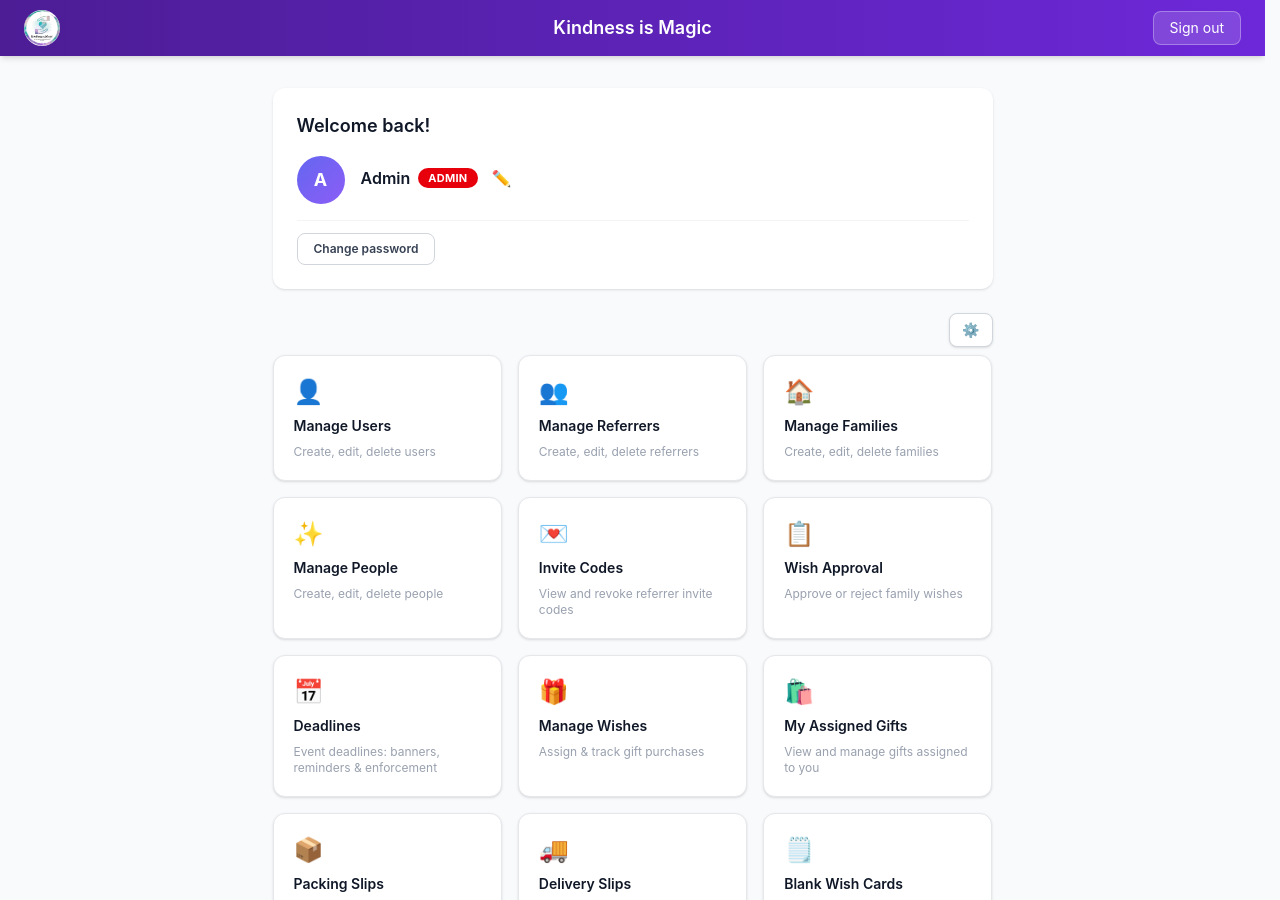
Test: Dashboard — profile card › keeps the password form collapsed until 'Change password' is clicked
The image size is (1280, 900).
Expected: the field labelled "Current password" is not shown
Click the button "Change password" at (366, 249), box [296, 233, 435, 265]
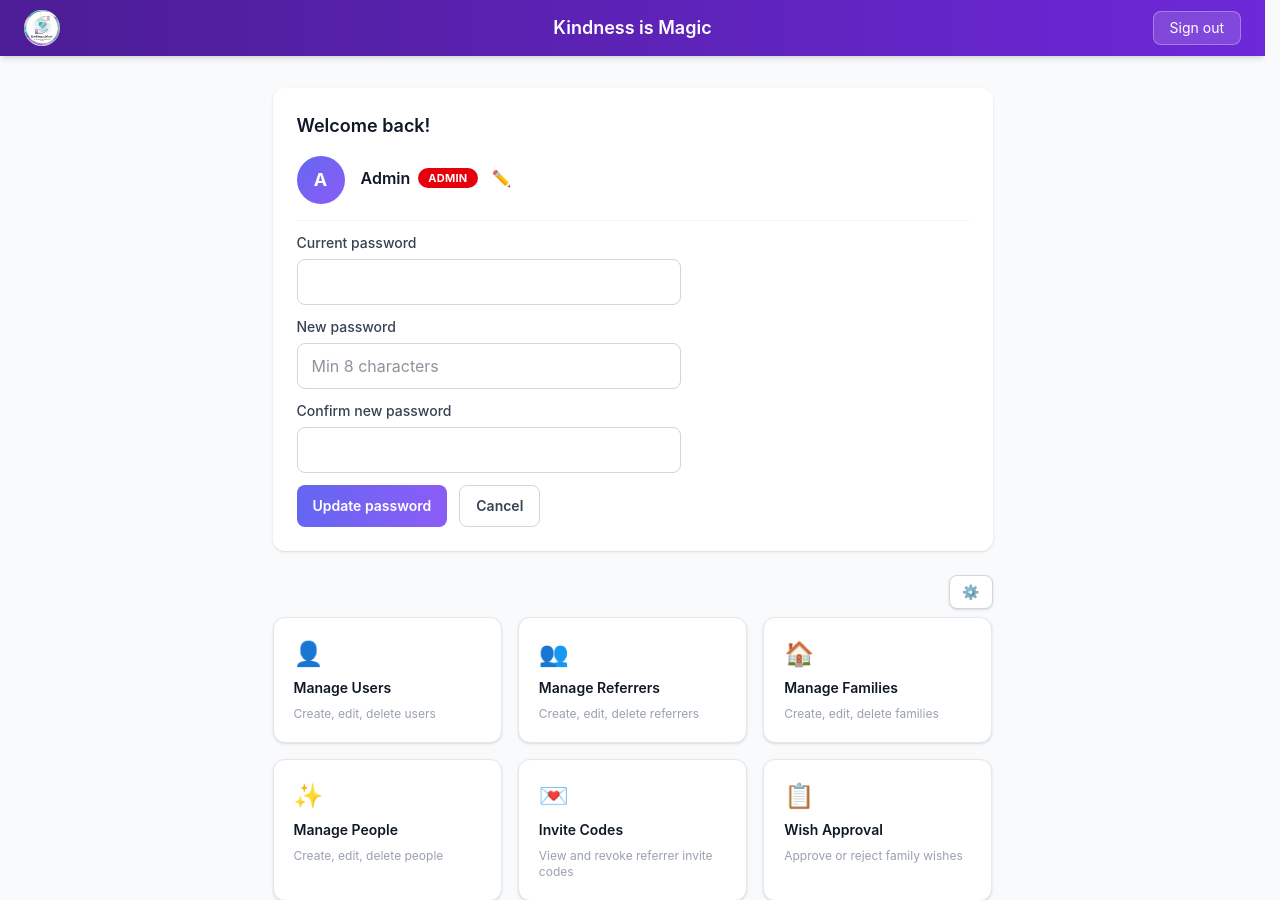
Result: the password field labelled "Current password" is shown at [296, 259, 680, 305]
Result: the password field labelled "New password" is shown at [296, 343, 680, 389]
Result: the password field labelled "Confirm new password" is shown at [296, 427, 680, 473]
